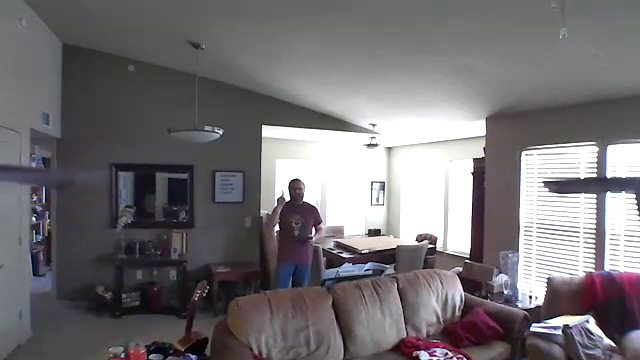up: (276, 187, 288, 209)
